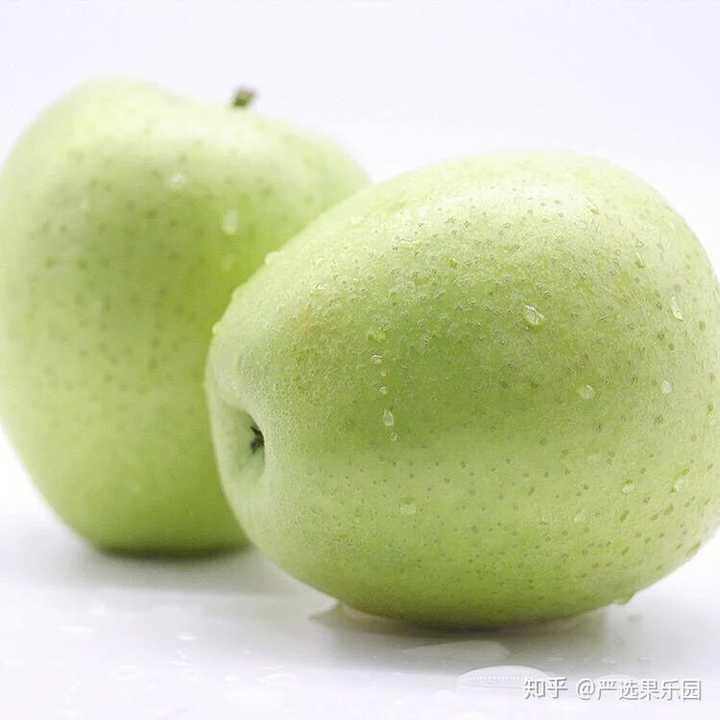apple: (213, 131, 719, 629)
